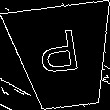P_S: (38, 29, 88, 84)
